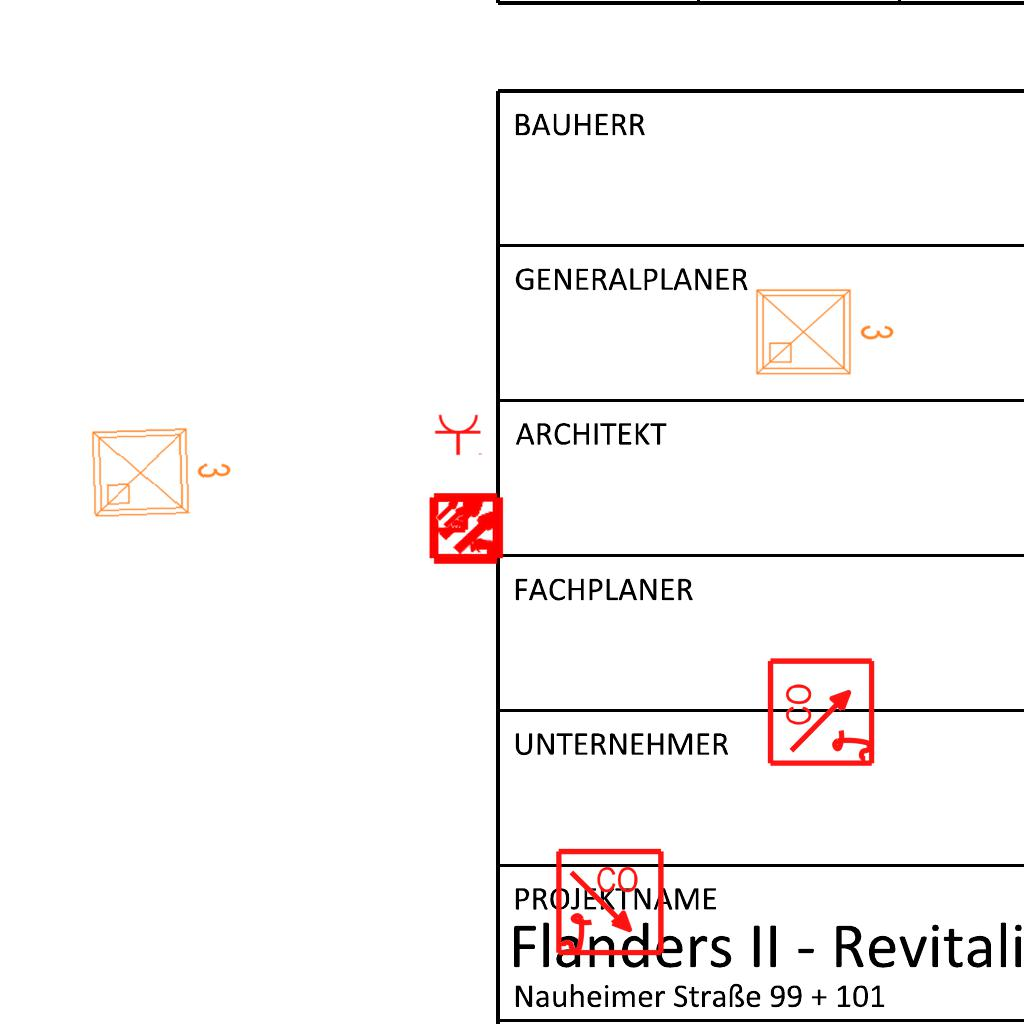Einbaudownlights_LED_Konferenzraeume: (84, 415, 238, 525), (749, 278, 899, 382)
OT_Multisensormelder_(Kombination_RMO_WMD): (412, 472, 525, 585), (423, 487, 479, 543)
ROA_Rauchmelder_optisch_mit_Signalgeber_(Sockelsirene): (554, 847, 667, 960), (766, 655, 879, 768)
Schukosteckdose_einfach: (434, 413, 484, 456)
